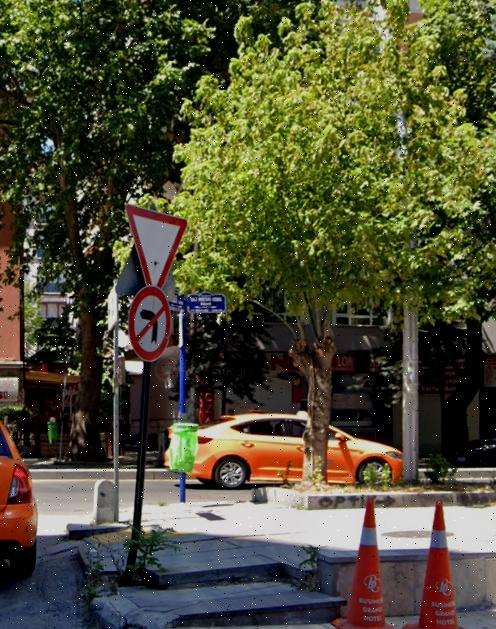leftturnsareforbidden: (129, 284, 175, 361)
